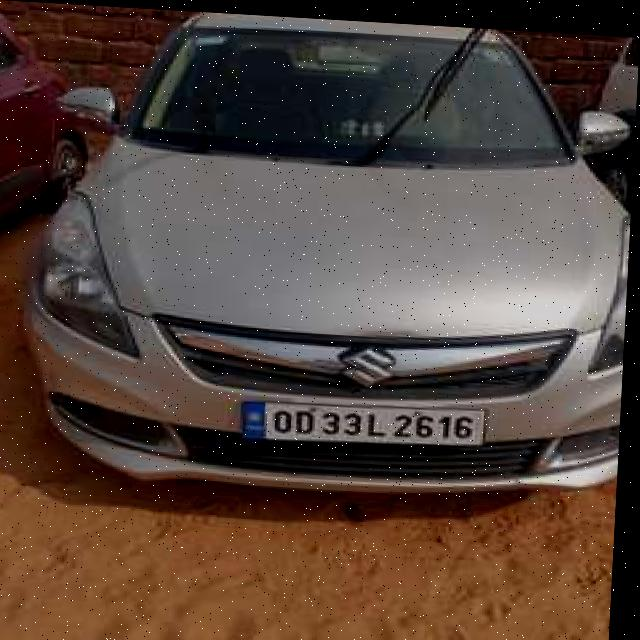plate: (243, 391, 491, 449)
